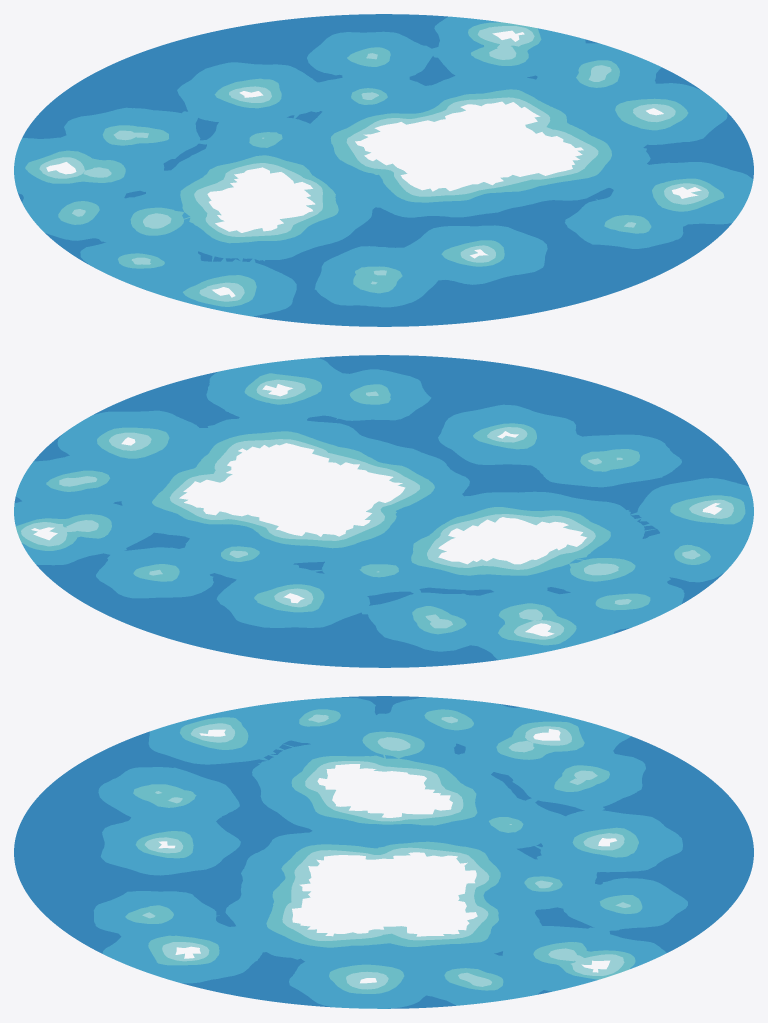
The model's file is Isl-tutorial1-Water.fbx.
3 renders of one model, top to bottom at view 1: azimuth 30°, elevation 25°; view 2: azimuth 150°, elevation 25°; view 3: azimuth 270°, elevation 25°, orthographic.
Visible parts, largest first — view 1: Isl-tutorial1-Water; view 2: Isl-tutorial1-Water; view 3: Isl-tutorial1-Water.
Part boxes in pixels (left/top/right/bottom): Isl-tutorial1-Water: left=14, top=14, right=753, bottom=326; Isl-tutorial1-Water: left=14, top=355, right=753, bottom=667; Isl-tutorial1-Water: left=14, top=696, right=753, bottom=1008.
Size of the model in its own units: 89 by 0 by 89.
